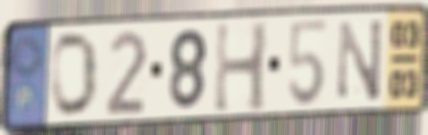2: (104, 26, 151, 118)
5: (286, 15, 330, 110)
8: (168, 26, 208, 112)
H: (211, 19, 271, 117)
N: (336, 15, 386, 104)
O: (50, 29, 100, 120)
